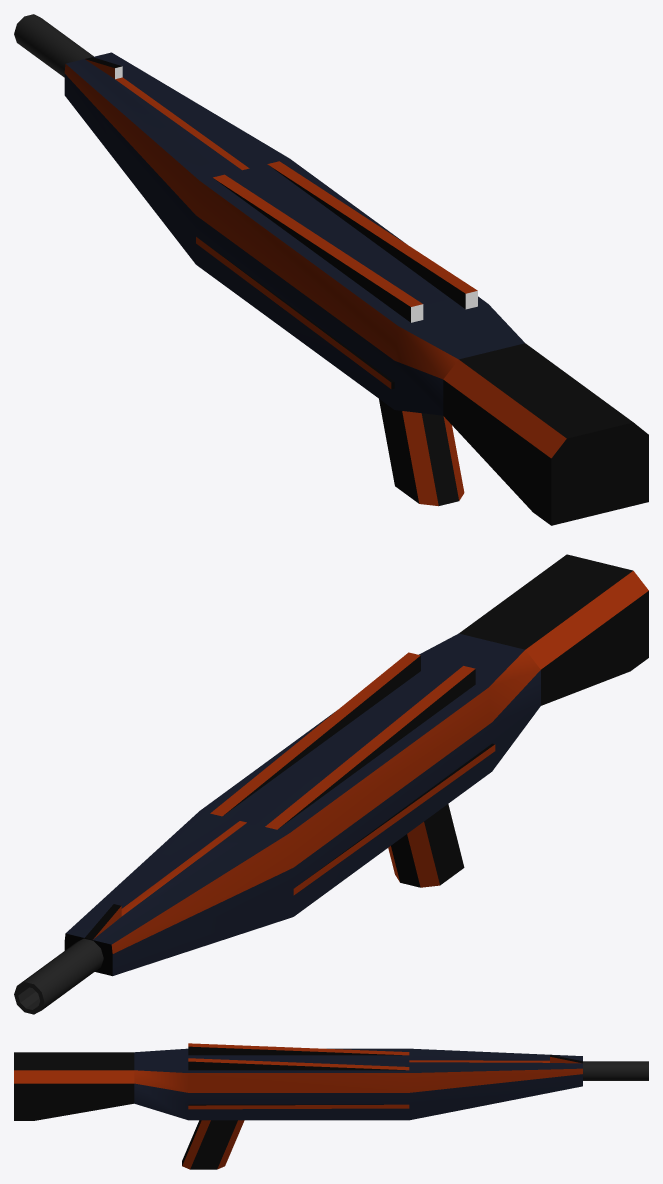
File: Rifle.FBX
3 renders of one model, top to bottom at view 1: azimuth 30°, elevation 25°; view 2: azimuth 150°, elevation 25°; view 3: azimuth 270°, elevation 25°, orthographic. The views are drawn at different scales.
Visible parts, largest first — view 1: Box001, Cylinder001; view 2: Box001, Cylinder001; view 3: Box001, Cylinder001.
Part boxes in pixels (box(x1,y1,x2,y2)): Box001: box(64, 52, 648, 525); Cylinder001: box(14, 14, 93, 77); Box001: box(64, 554, 648, 976); Cylinder001: box(14, 938, 103, 1014); Box001: box(14, 1043, 582, 1169); Cylinder001: box(583, 1061, 648, 1080).
Bounding box in the file's own units: 6.69 × 12.35 × 63.81.
